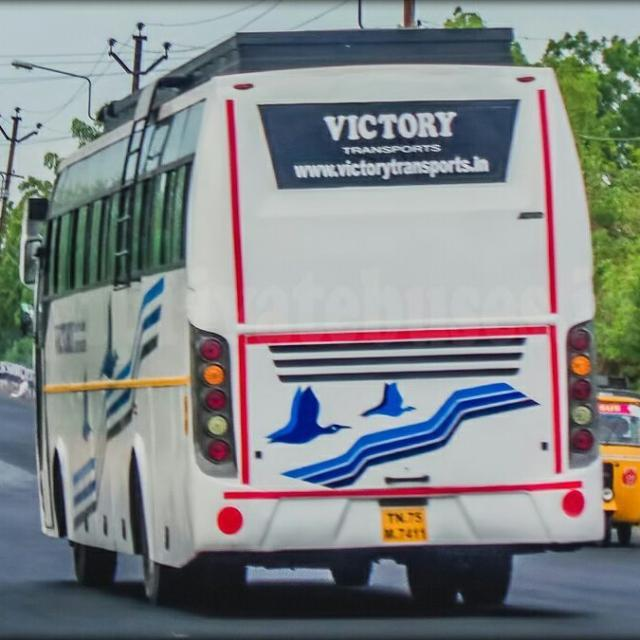Bus: (17, 22, 605, 612)
